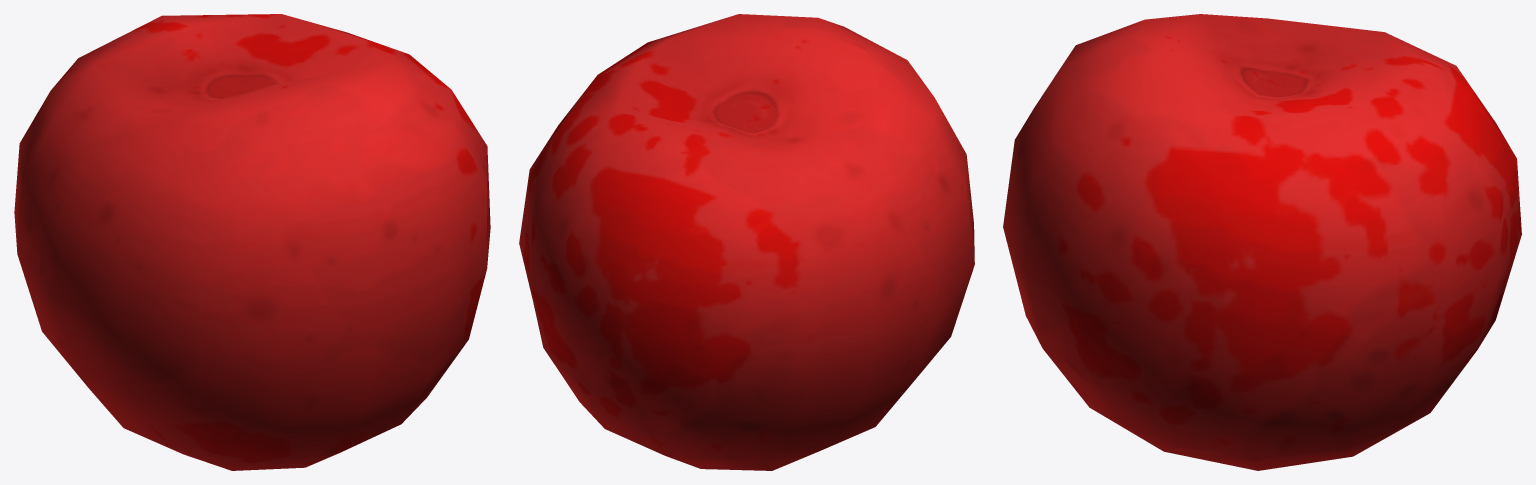
The model's file is SM_CherryF.fbx.
The picture shows the model from 3 angles, left to right: view 1: azimuth 30°, elevation 25°; view 2: azimuth 150°, elevation 25°; view 3: azimuth 270°, elevation 25°; orthographic projection. The views are drawn at different scales.
Parts seen in each view (by area): view 1: SM_CherryF; view 2: SM_CherryF; view 3: SM_CherryF.
Boxes of the visible parts, x1,y1,x2,y2 form: SM_CherryF: (14,14,490,470); SM_CherryF: (519,14,974,470); SM_CherryF: (1003,14,1521,470).
Size of the model in its own units: 4.63 by 4.32 by 5.01.
